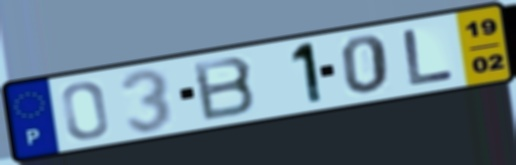0: (58, 80, 112, 142), (338, 33, 390, 97)
1: (285, 39, 326, 108)
3: (119, 64, 178, 137)
B: (189, 54, 259, 124)
L: (399, 26, 458, 88)
